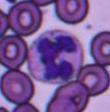N: (27, 28, 84, 84)
